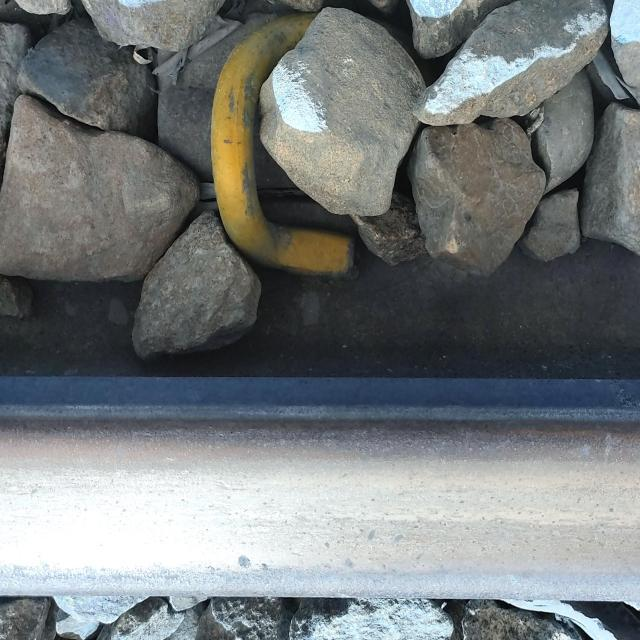Good Fasteners: (158, 13, 357, 274)
